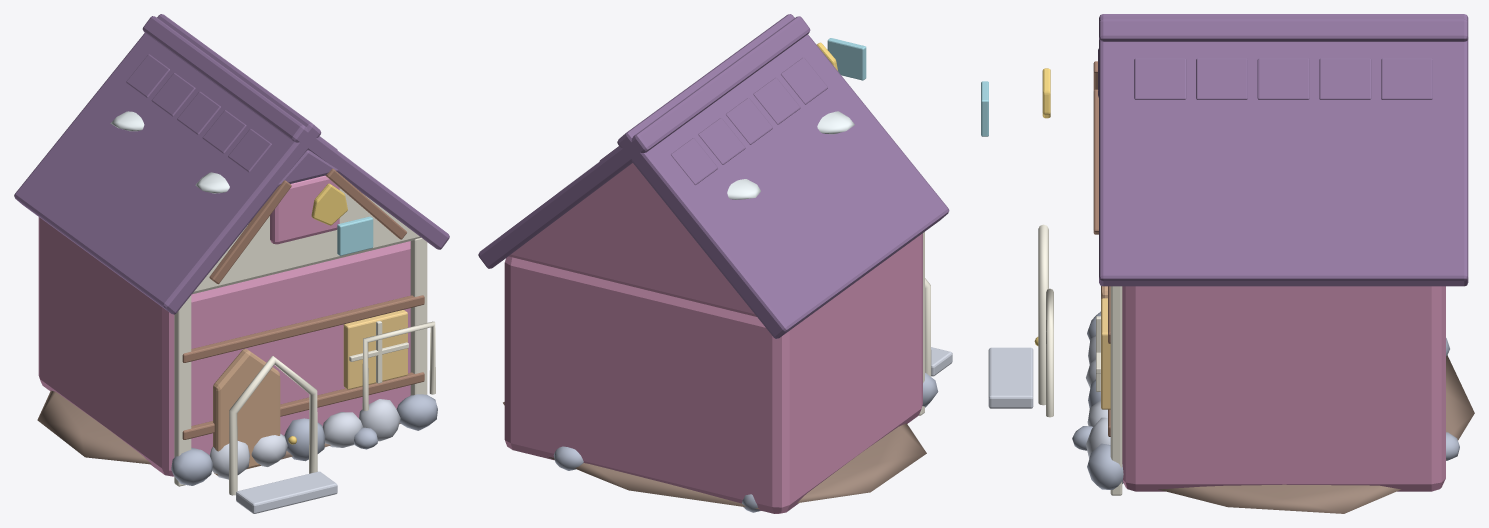
Rendered from northern_house_rose.glb.
3 views of the same model, side by side, from view 1: azimuth 30°, elevation 25°; view 2: azimuth 150°, elevation 25°; view 3: azimuth 270°, elevation 25° (orthographic). The views are drawn at different scales.
Visible parts, largest first — view 1: northern_house_rose.001; view 2: northern_house_rose.001; view 3: northern_house_rose.001.
Boxes of the visible parts, bbox=[...] form: northern_house_rose.001: bbox=[14, 14, 449, 513]; northern_house_rose.001: bbox=[478, 14, 952, 513]; northern_house_rose.001: bbox=[981, 14, 1474, 513].
Bounding box in the file's own units: 10.71 × 10.09 × 11.03.
